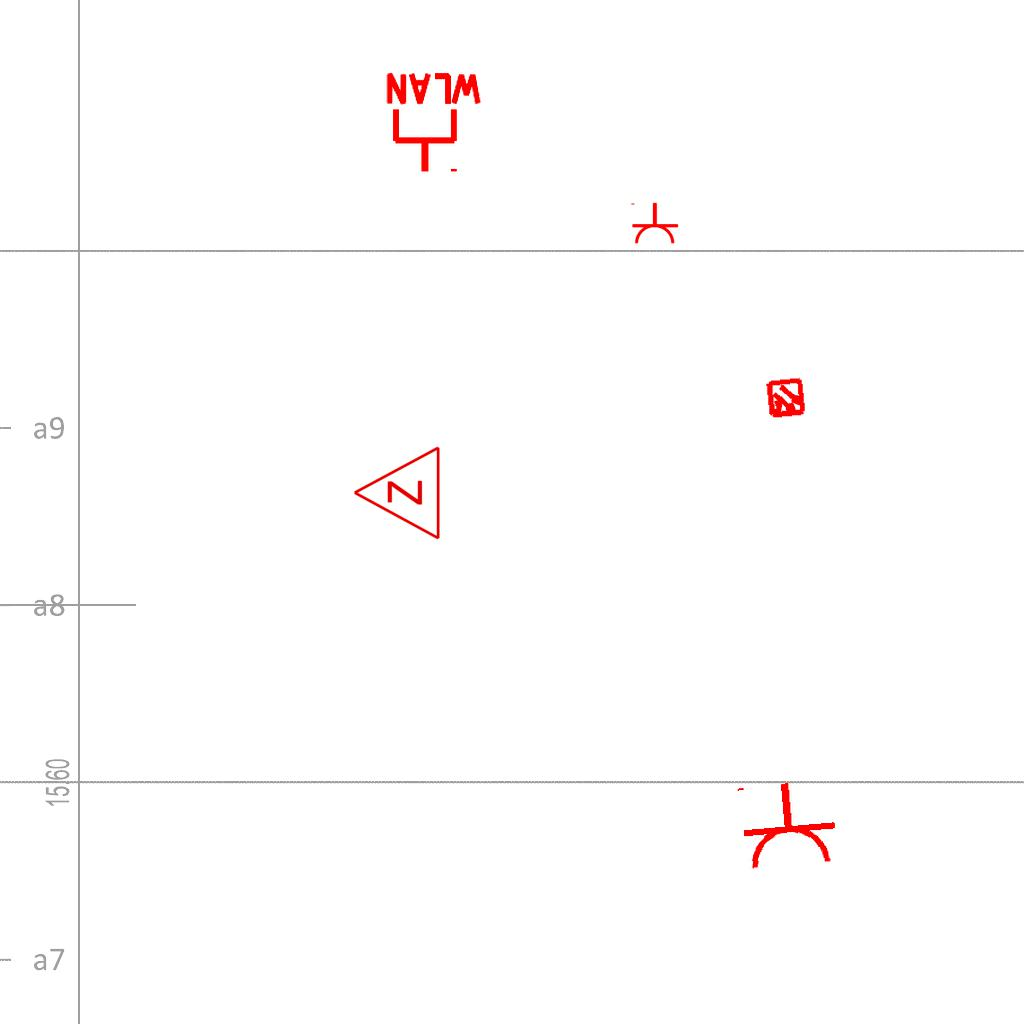OT_Multisensormelder_(Kombination_RMO_WMD): (755, 368, 817, 430)
Schukosteckdose_einfach: (732, 777, 841, 873), (629, 202, 679, 245)
WLAN: (382, 71, 486, 176)
Zimmersignalleuchte: (347, 445, 447, 543)
